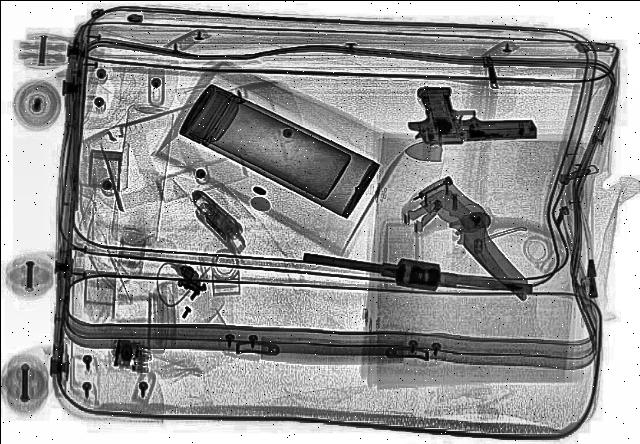Gun: (402, 82, 536, 146)
